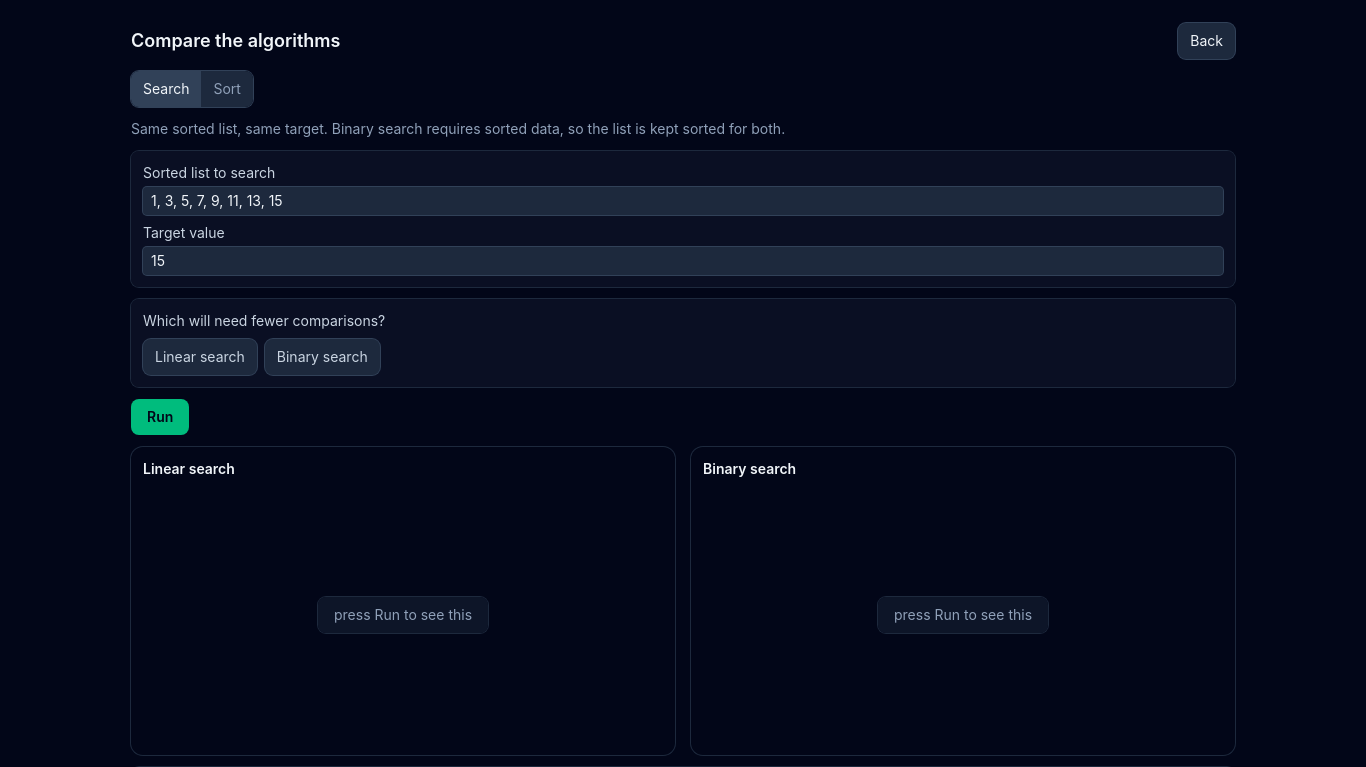
Test: Compare — Run wires two sequential real runs into two Pictures (AC-9.7) › labels the shorter recording finished once playback catches up to it
The width and height of the screenshot is (1366, 767).
What coordinates should you click on to do the following:
click the button "Run"
I would click on:
 (160, 417)
Its box is left=131, top=399, right=189, bottom=435.
(page scrolled)
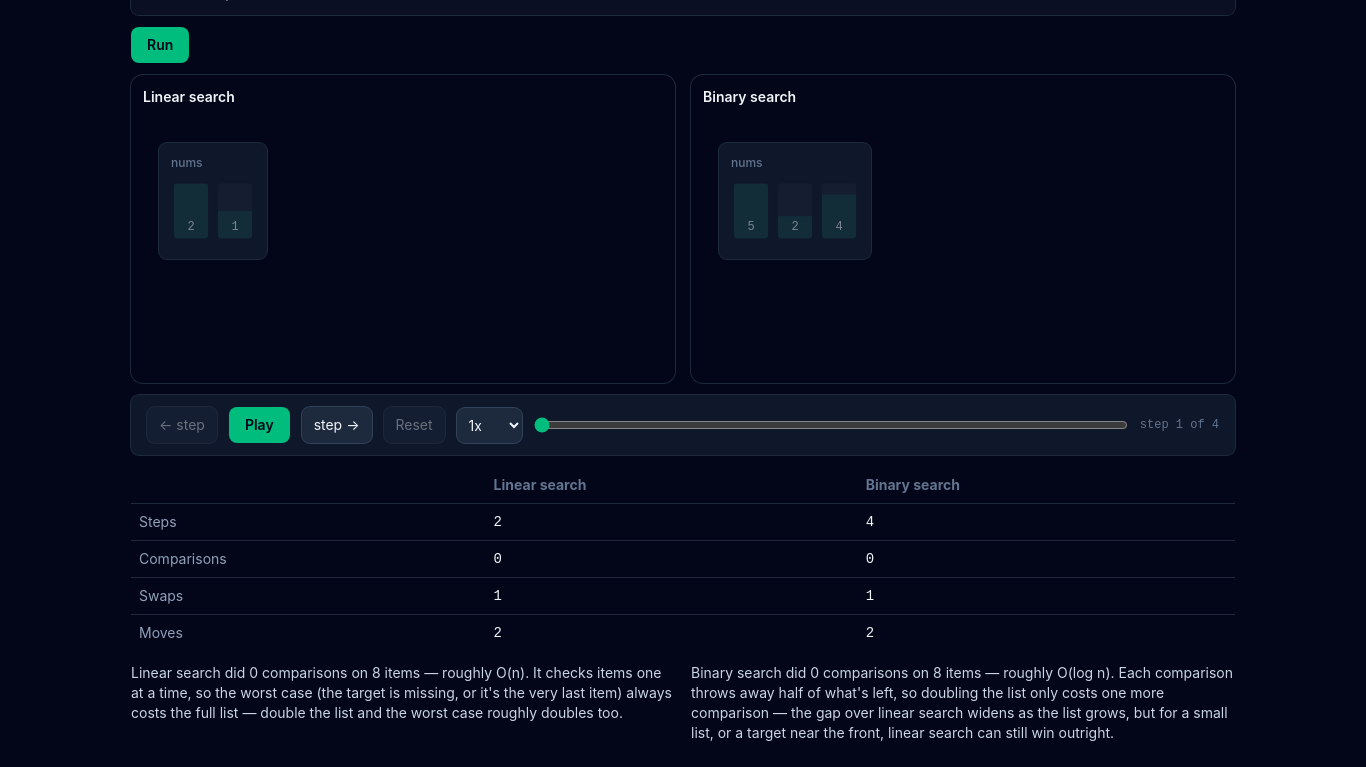
Result: the table with test id "compare-counts" is shown at left=131, top=467, right=1235, bottom=651
What coordinates should you click on to do the following:
click the button "step →"
I would click on:
 (337, 425)
Its box is left=302, top=407, right=372, bottom=443.
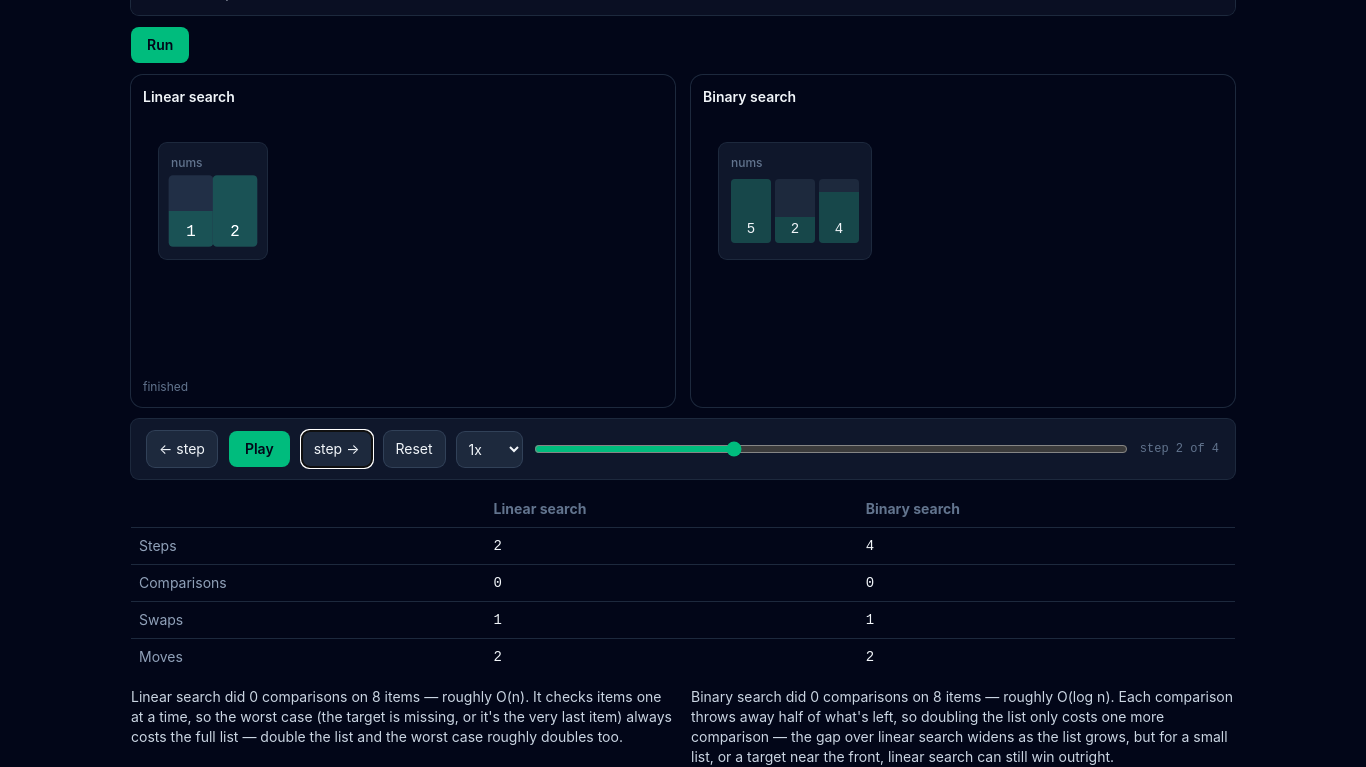
Result: the text "finished" is shown at left=143, top=379, right=188, bottom=394
